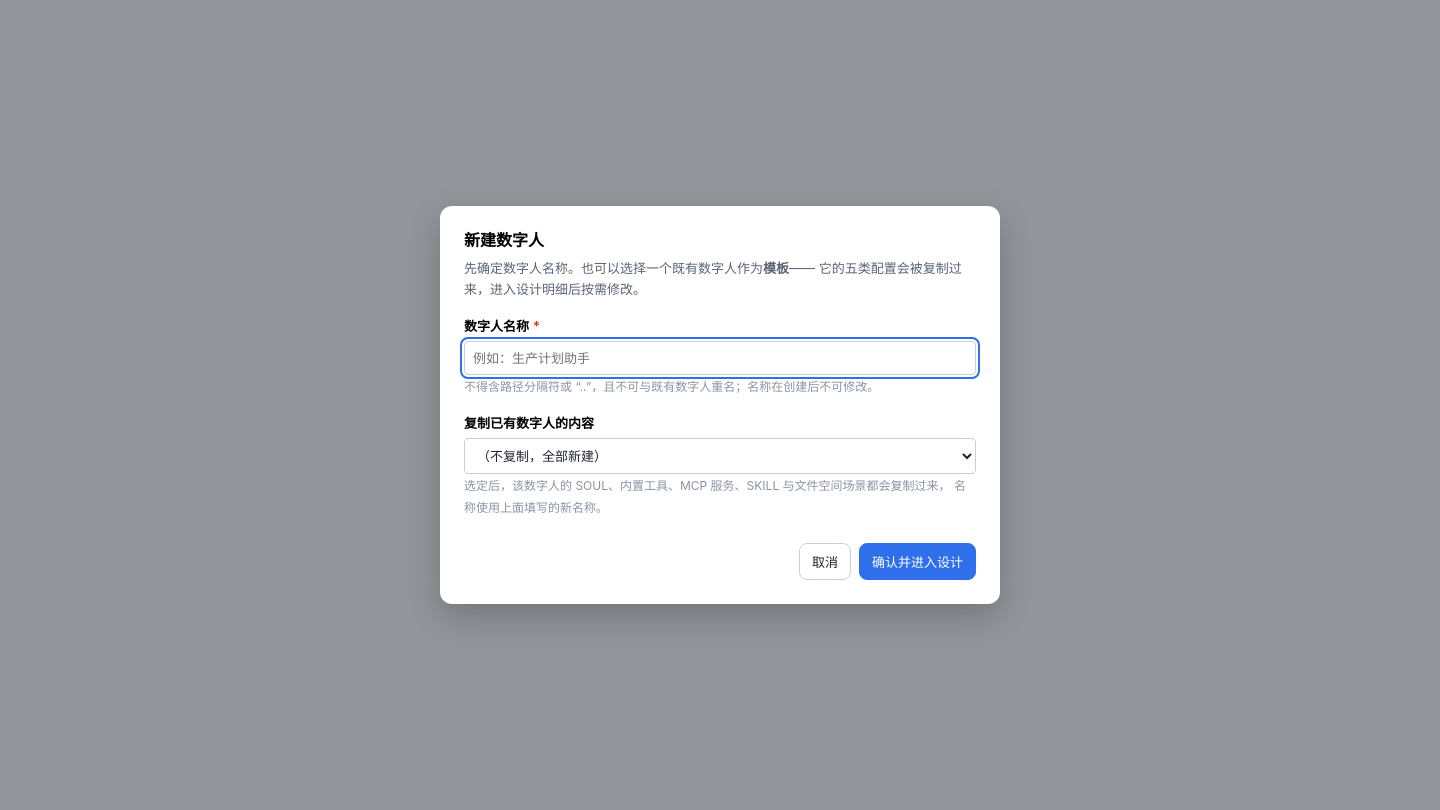
Test case: CreateAgentDialog —— 重名拒绝（FR-015） › 与既有数字人重名：拒绝创建、不关窗、输入不丢
In the field with test id "create-agent-name": point(720, 358) [464,341,976,375], type "生产计划助手"
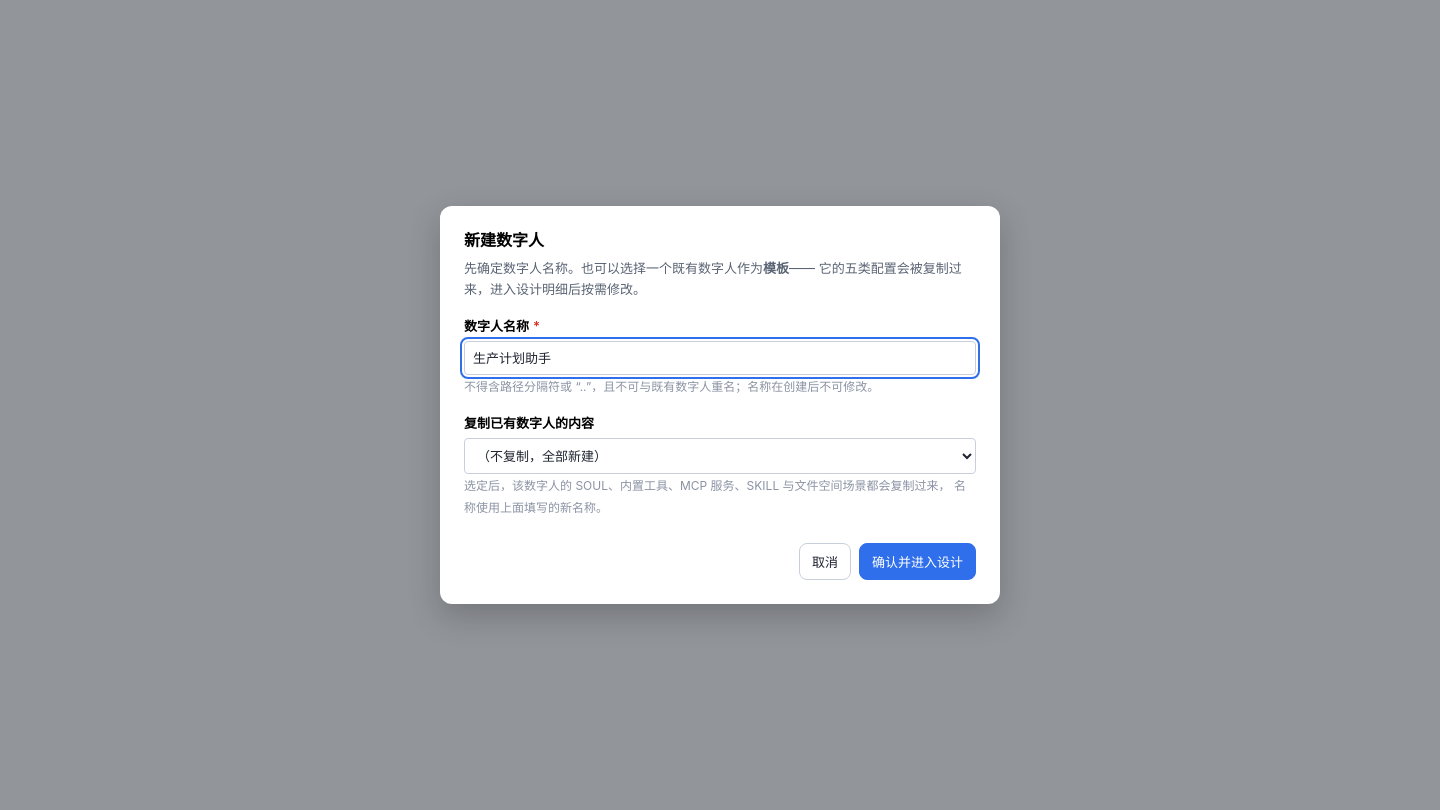
Click the button with test id "confirm": point(918, 561) [859,543,976,580]
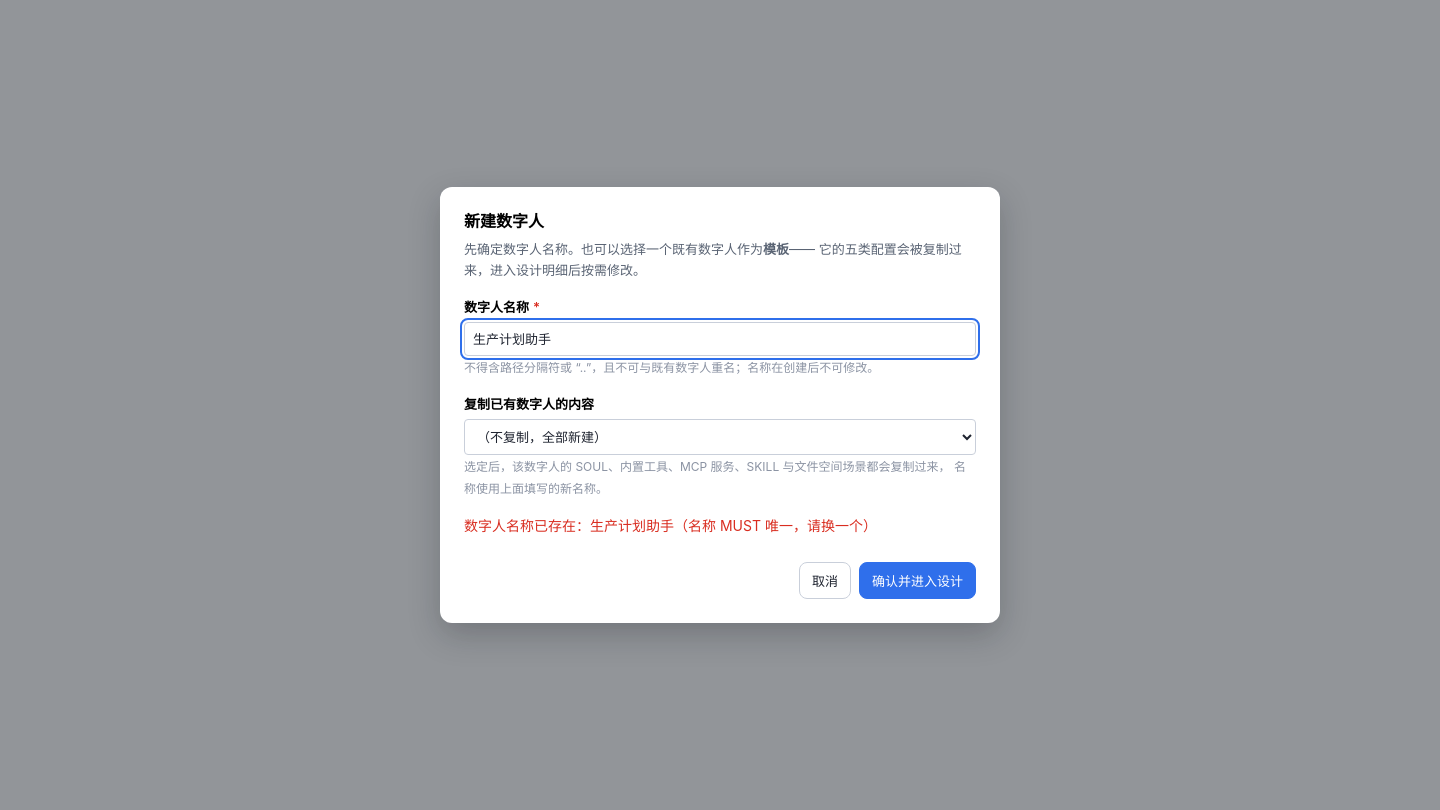
Check: the message with test id "create-agent-error" shows "数字人名称已存在", box [464,518,877,534]
